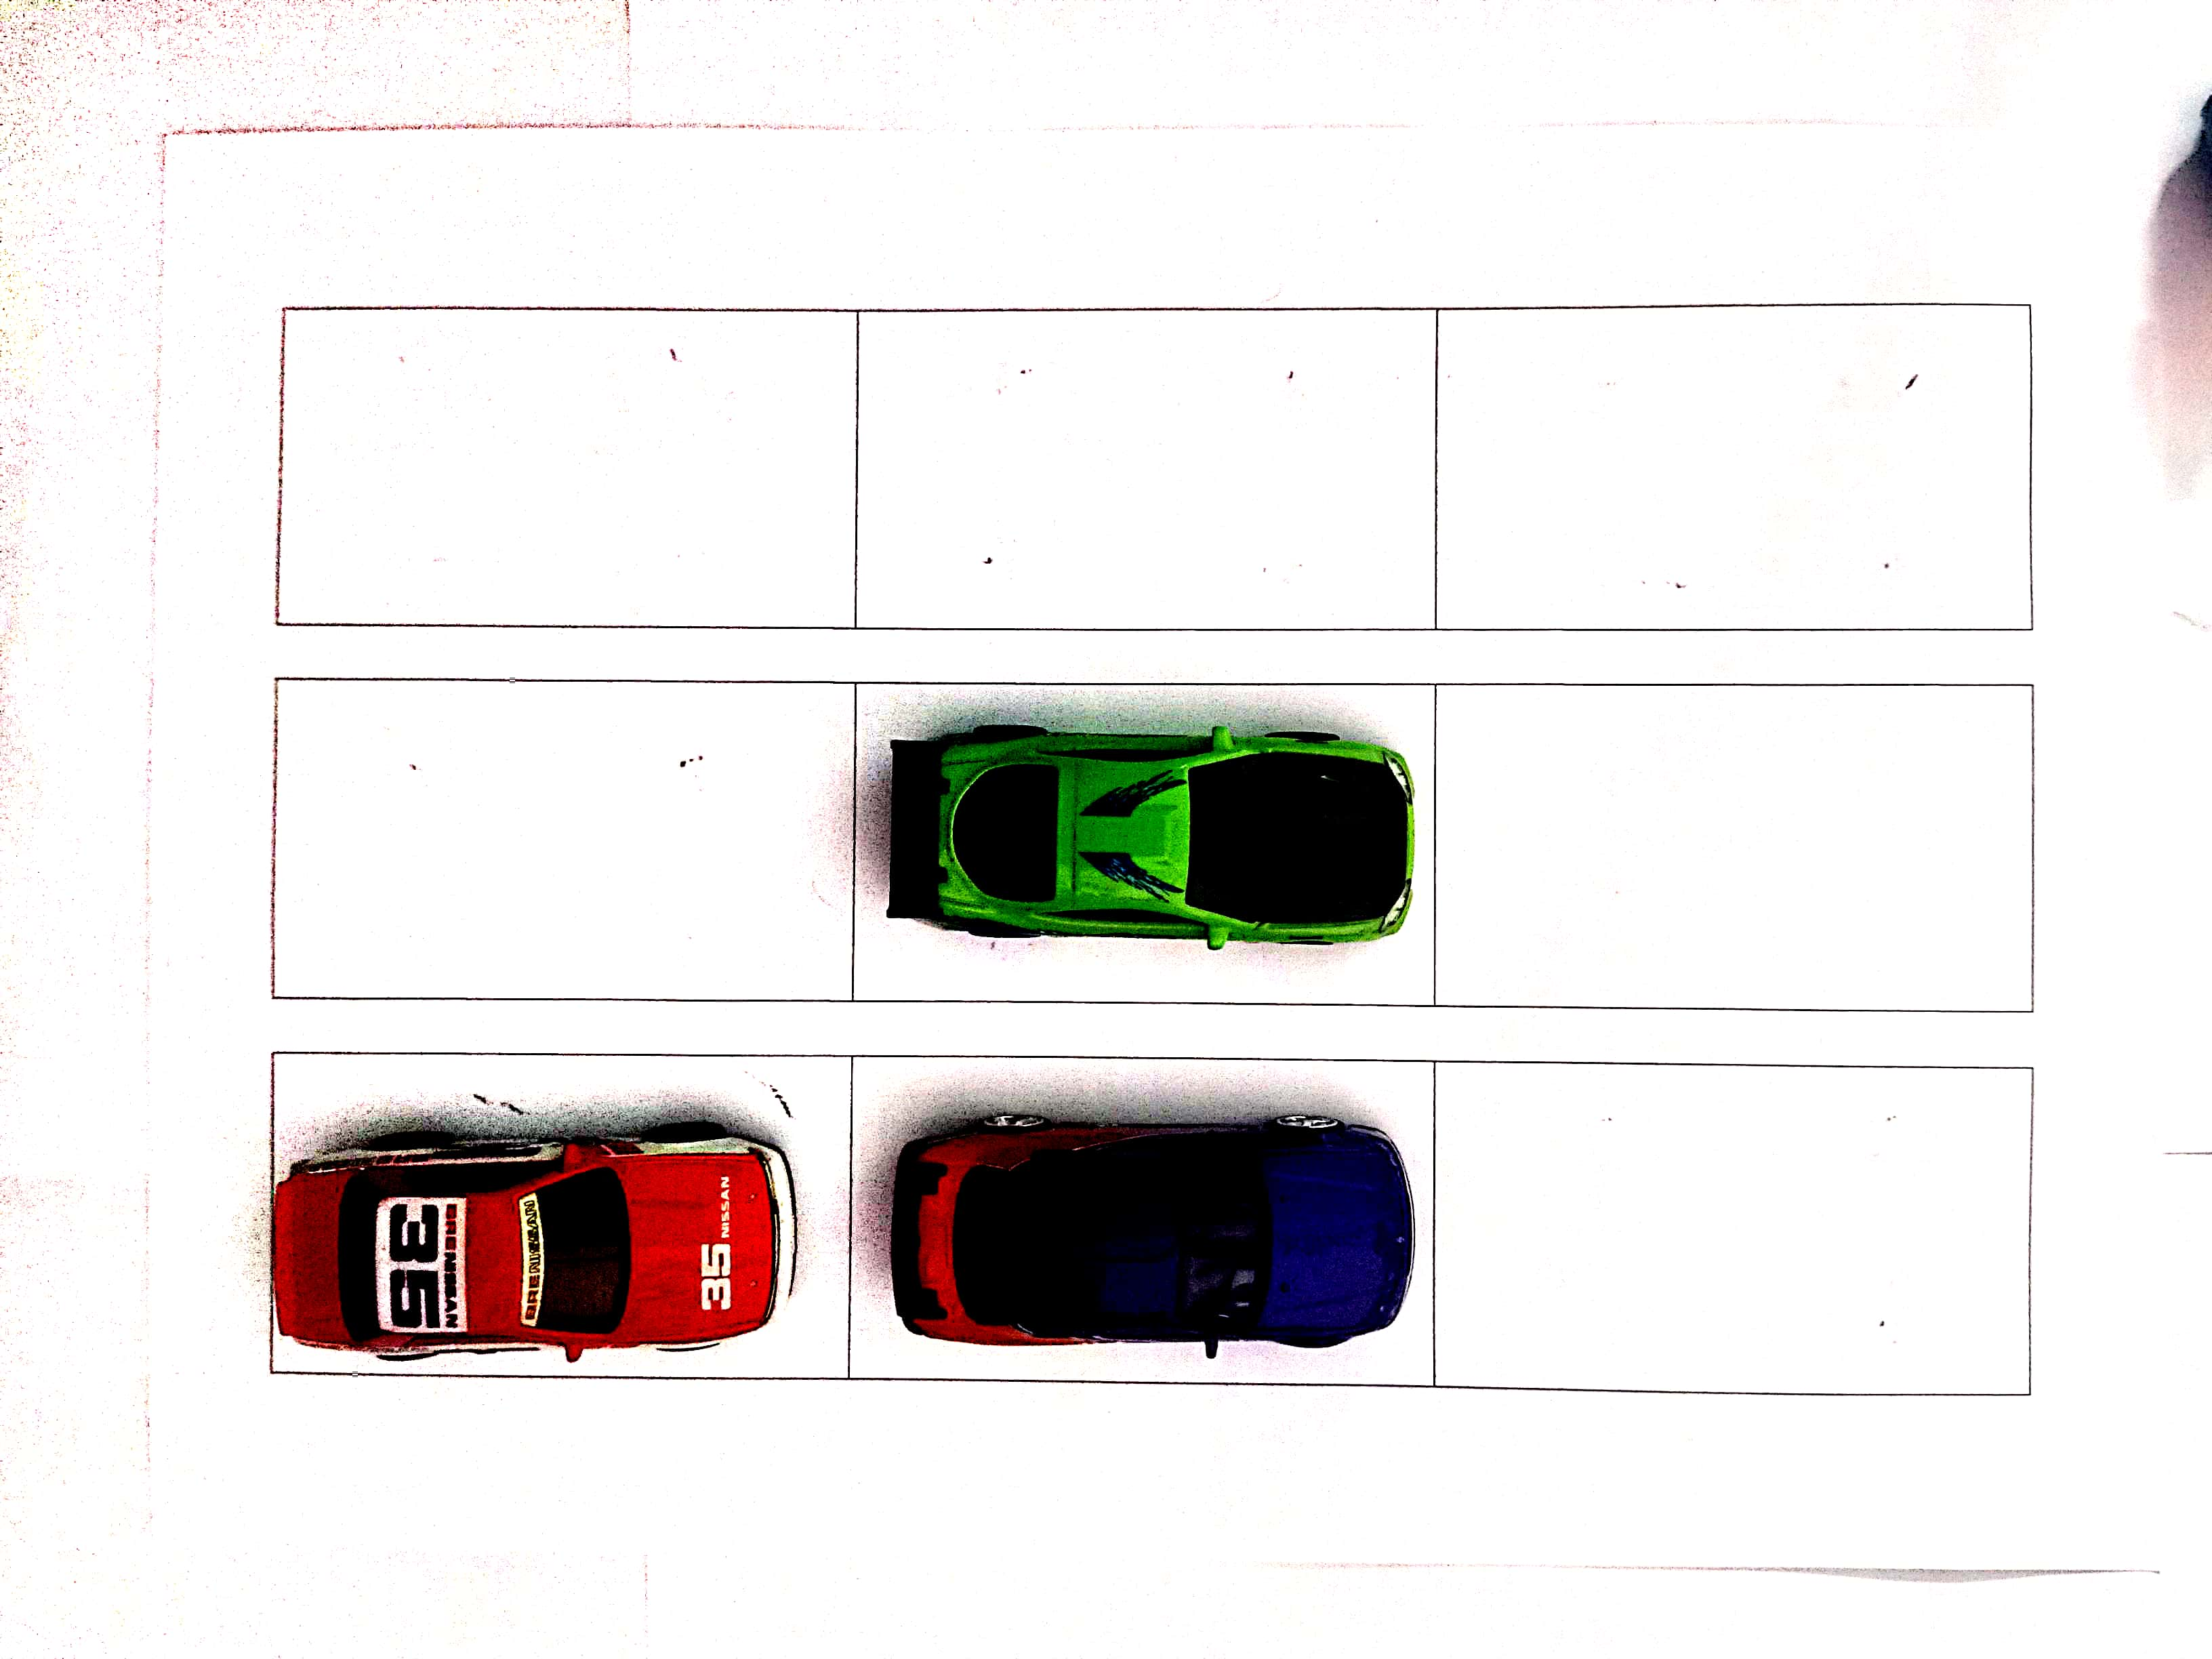Busy: (848, 1058, 1428, 1389), (273, 1053, 845, 1378), (853, 680, 1437, 997)
Free: (1432, 308, 2033, 627), (1446, 683, 2026, 1002), (1437, 1070, 2026, 1384), (857, 310, 1442, 624), (286, 674, 845, 993), (291, 314, 852, 622)
